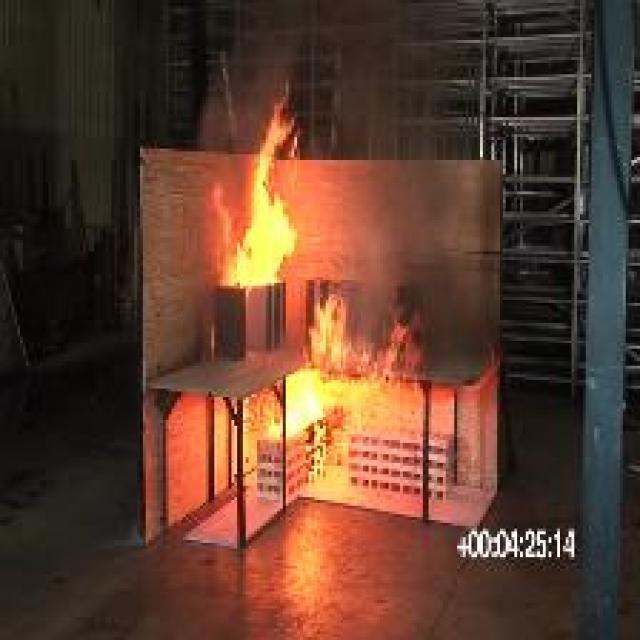Fire: (247, 296, 424, 482), (213, 84, 296, 287)
